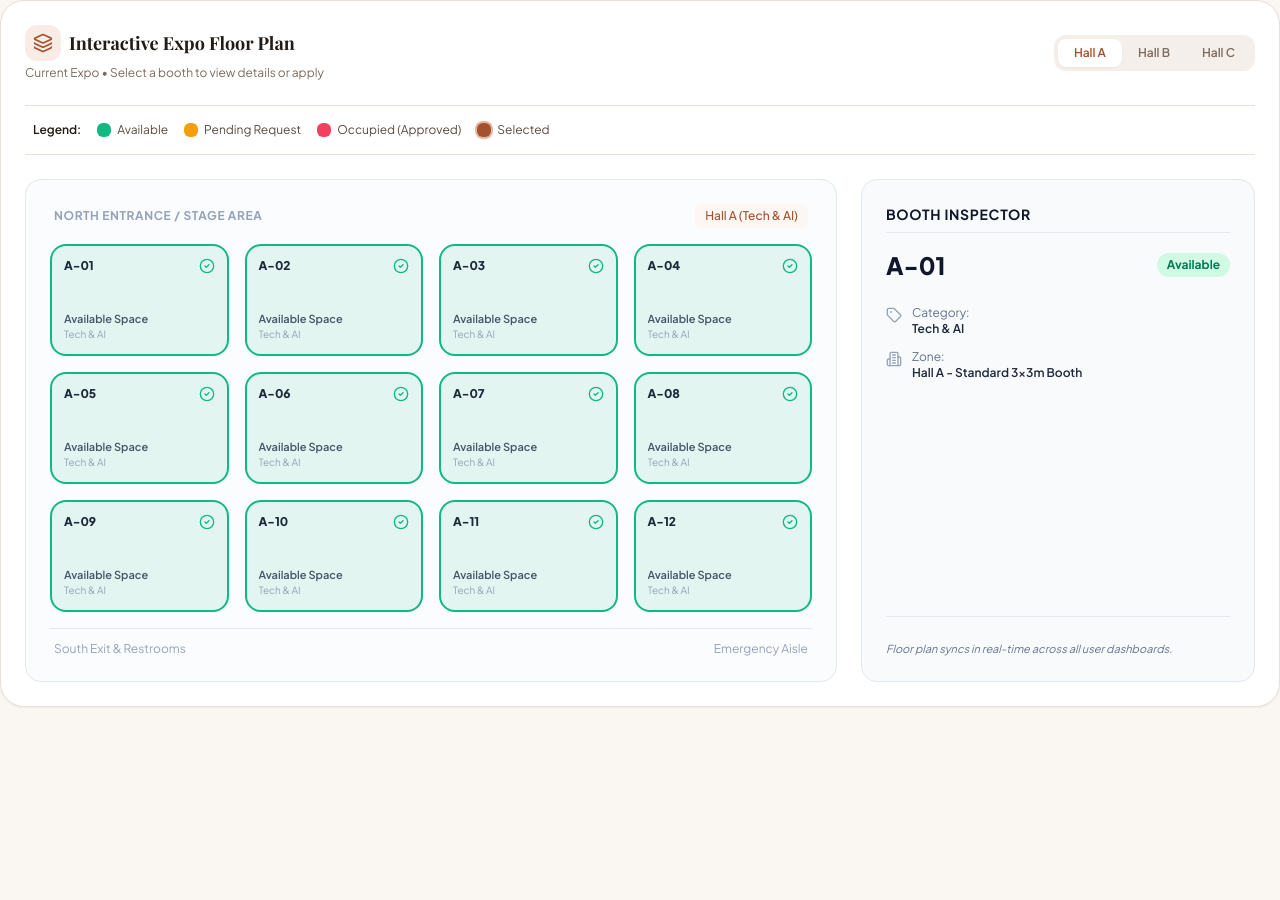
Scenario: FloorPlanView Component › renders hall selection tabs and switches halls
Click the button "Hall B". click: (1154, 53)
box: [1122,39,1186,67]
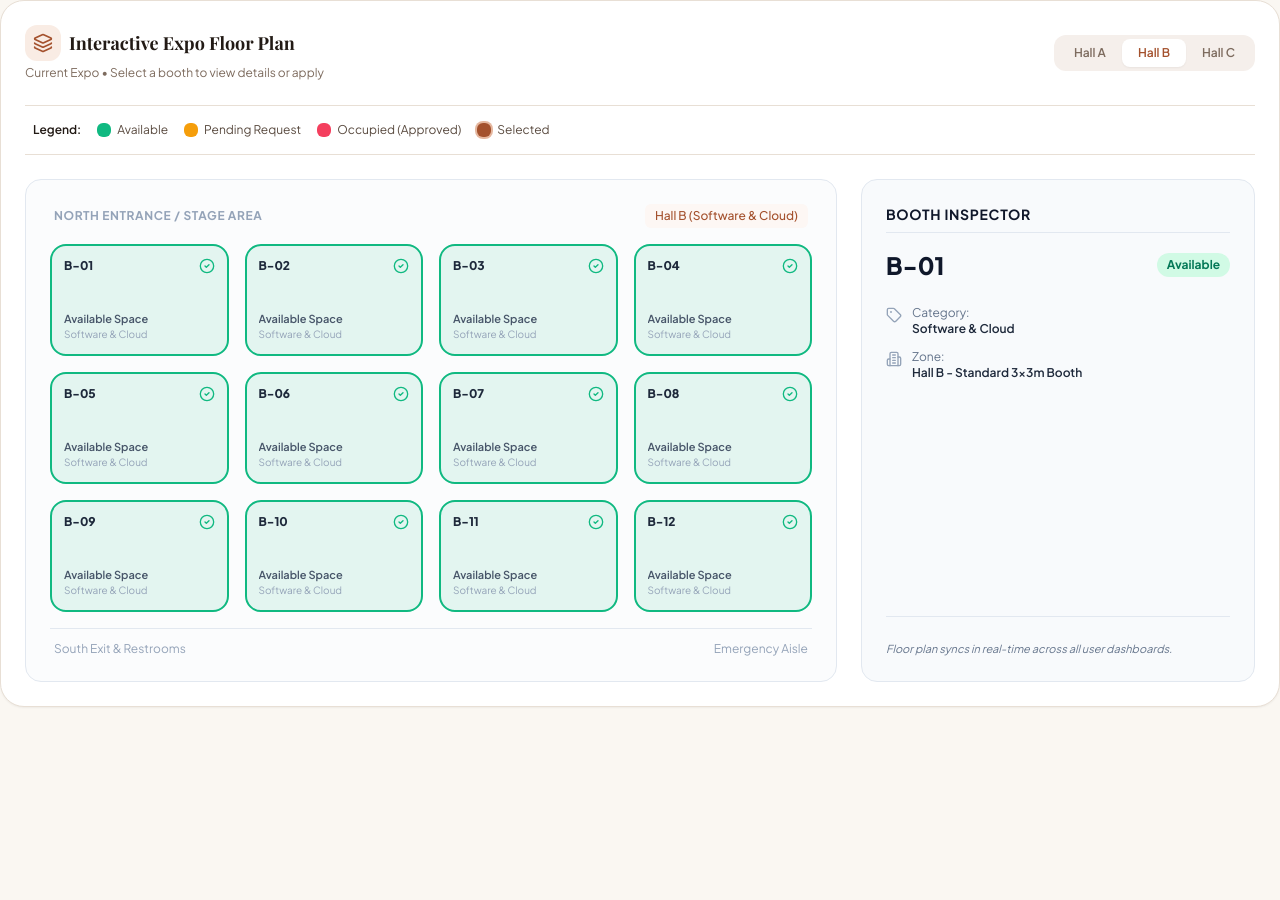
Check: the text "B-01" below "North Entrance / Stage Area" is shown, box [64,258,93,273]
